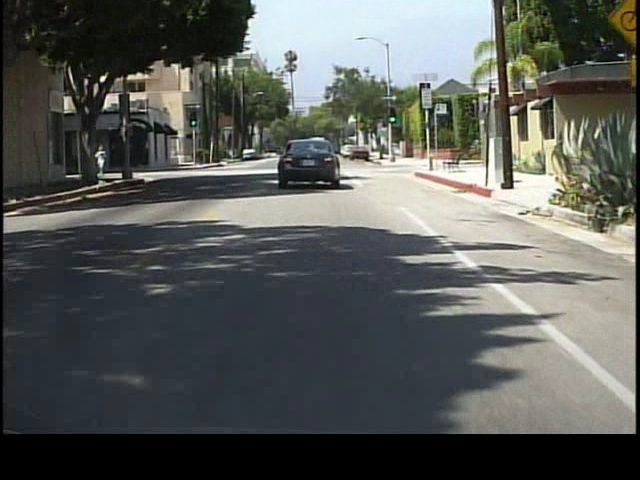person: (97, 141, 109, 180)
